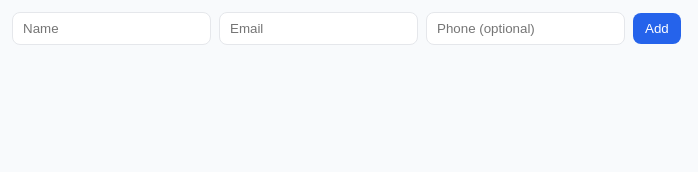
it: ContactForm › should validate email format
Type "Test User" into the field with placeholder "Name" at [112, 28], box [12,12,211,45]
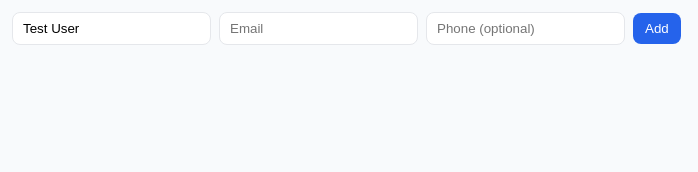
Type "invalid-email" into the field with placeholder "Email" at [318, 28], box [219,12,418,45]
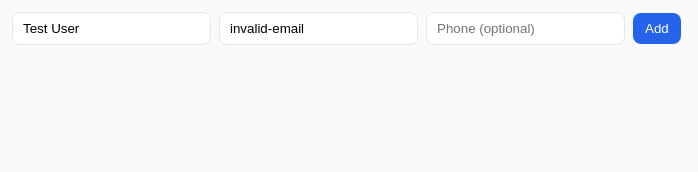
Click the button "Add" at [657, 28], box [633,13,681,44]
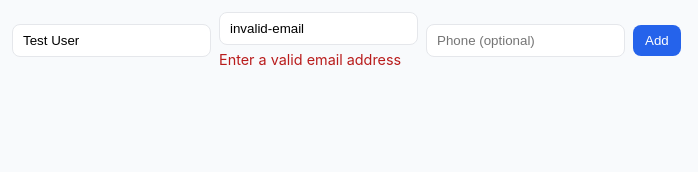
Now the text "Enter a valid email address" is shown, box [219,51,418,68]
